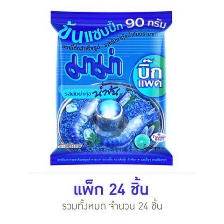snack: (40, 3, 179, 173)
